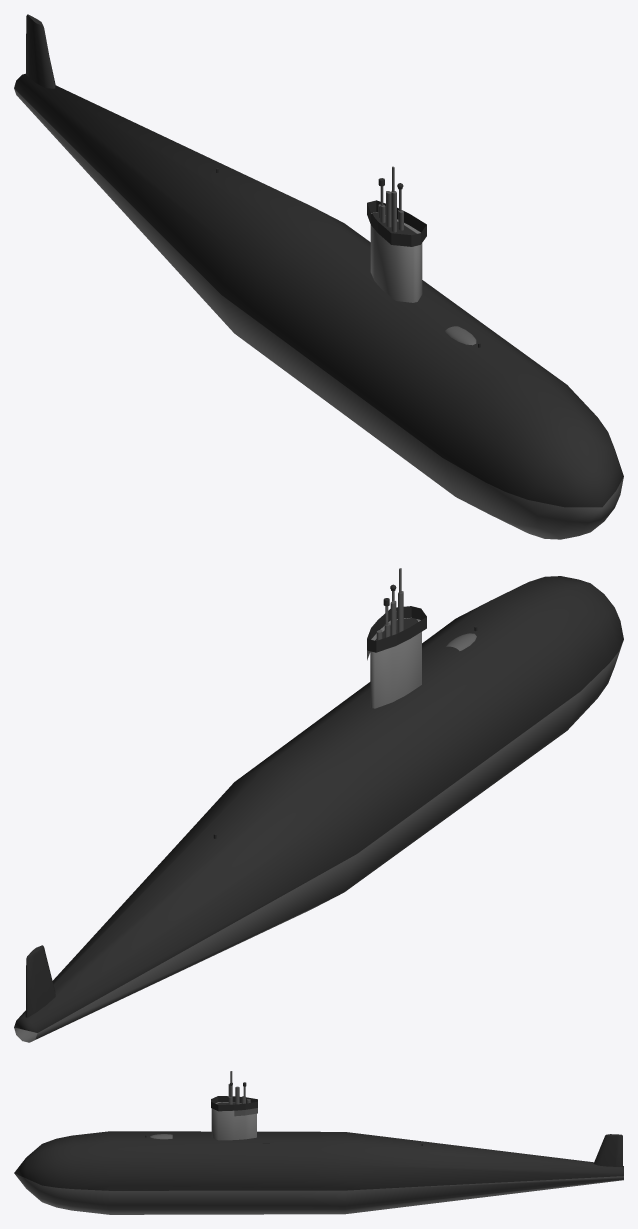
The model's file is Submarine_HighRes.DAE.
3 renders of one model, top to bottom at view 1: azimuth 30°, elevation 25°; view 2: azimuth 150°, elevation 25°; view 3: azimuth 270°, elevation 25°, orthographic. The views are drawn at different scales.
Visible parts, largest first — view 1: SubmarineHigh; view 2: SubmarineHigh; view 3: SubmarineHigh.
Boxes of the visible parts, x1,y1,x2,y2 form: SubmarineHigh: [14, 14, 623, 539]; SubmarineHigh: [14, 568, 623, 1042]; SubmarineHigh: [14, 1071, 623, 1214].
Bounding box in the file's own units: 441 × 792 × 3193.
Materials: 1 (1 with a texture image).
